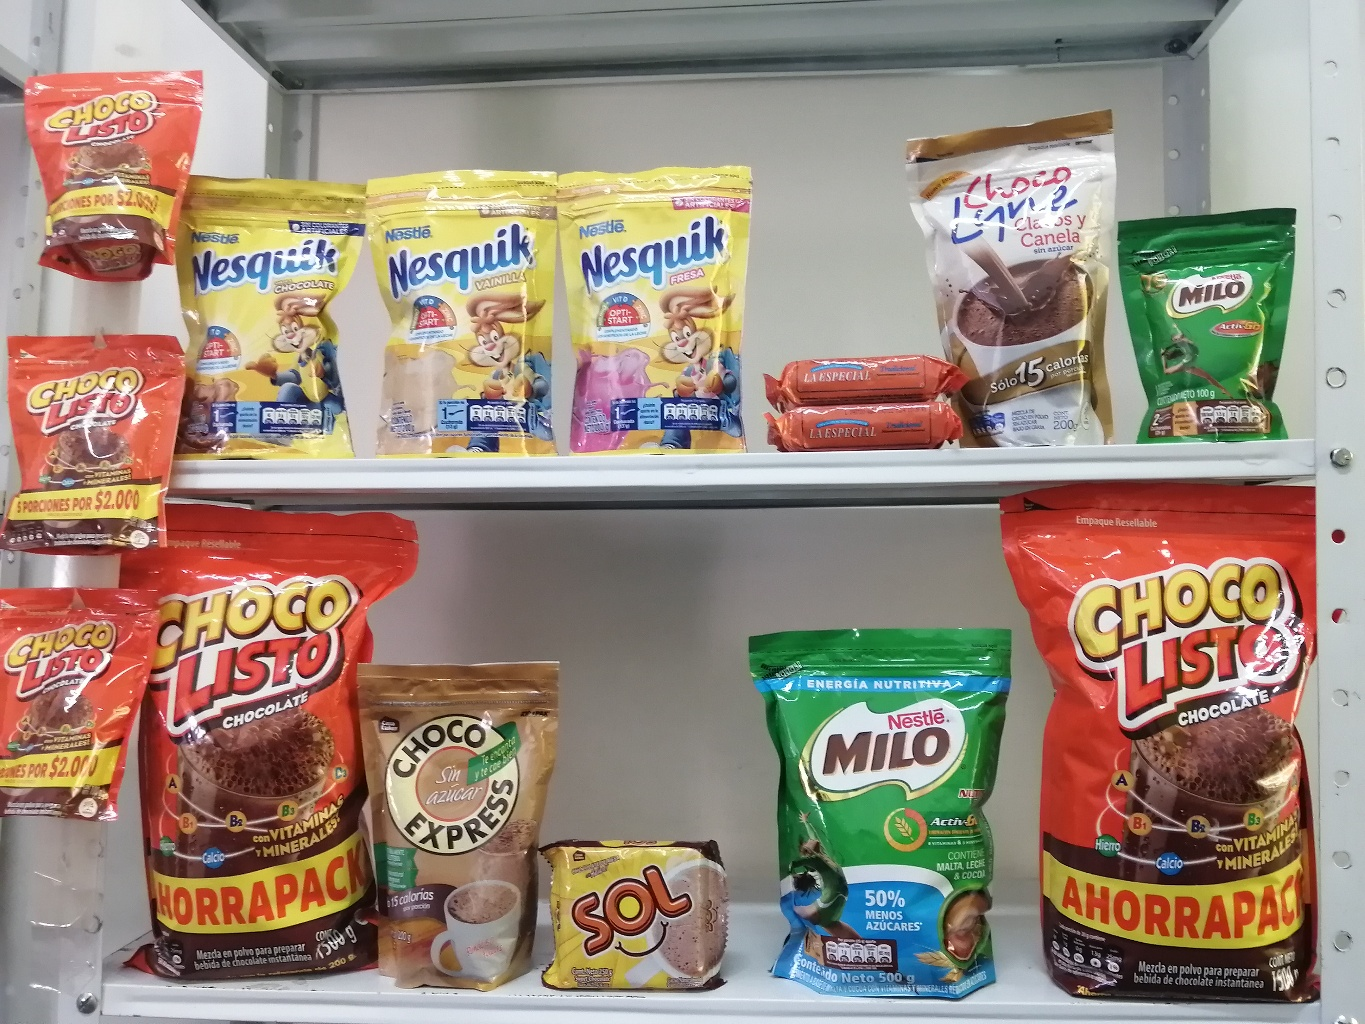COL0170103DYP1,500: (984, 471, 1351, 1010)
COL0170203DYP10000: (1099, 193, 1316, 453)
COL0170205DYP50000: (727, 603, 1030, 1005)
COL0170303DYP20000: (150, 153, 371, 463)
COL0170305DYP20000: (540, 162, 781, 463)
COL0170306DYP20000: (347, 158, 579, 463)
